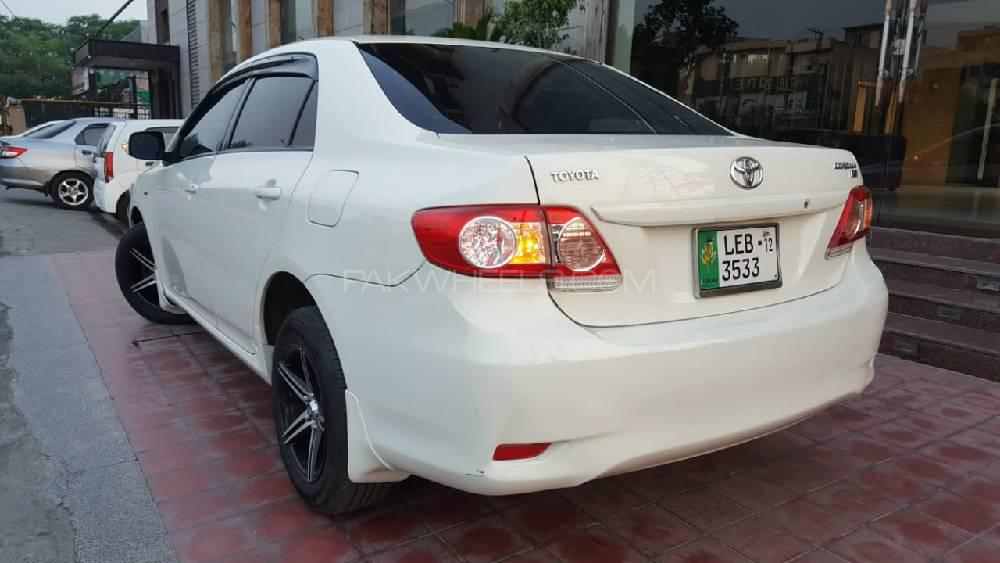license plate: (696, 231, 783, 286)
